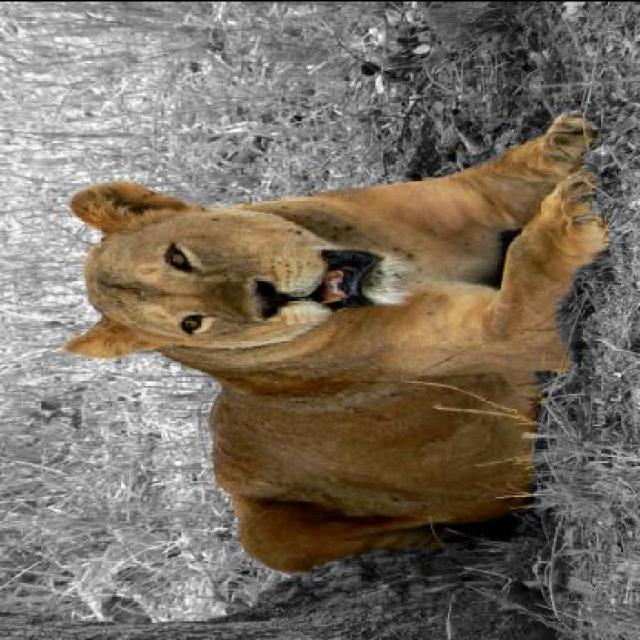Lion: (43, 114, 639, 588)
